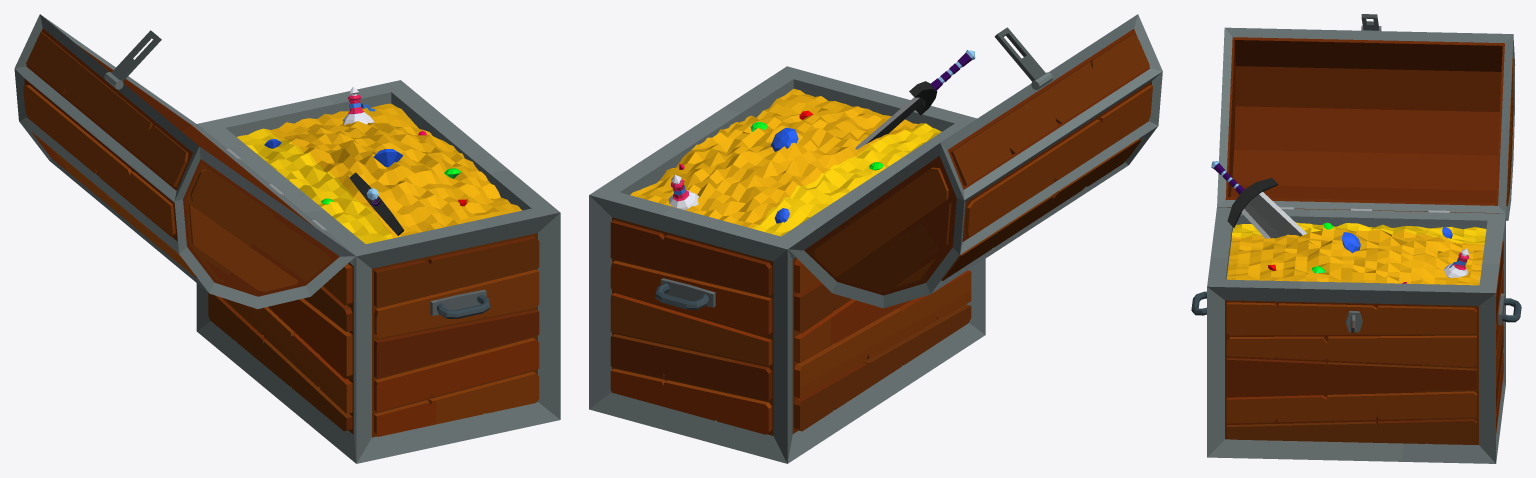
File: cofre_cofre_0.003_lev2.glb
3 renders of one model, left to right at view 1: azimuth 30°, elevation 25°; view 2: azimuth 150°, elevation 25°; view 3: azimuth 270°, elevation 25°, orthographic. The views are drawn at different scales.
Visible parts, largest first — view 1: cofre_cofre_0.003_lev2; view 2: cofre_cofre_0.003_lev2; view 3: cofre_cofre_0.003_lev2.
Part boxes in pixels (left/top/right/bottom): cofre_cofre_0.003_lev2: left=14, top=14, right=560, bottom=463; cofre_cofre_0.003_lev2: left=589, top=14, right=1162, bottom=463; cofre_cofre_0.003_lev2: left=1191, top=14, right=1521, bottom=463.
Size of the model in its own units: 3.41 by 3.18 by 2.97.
Materials: 1 (1 with a texture image).
